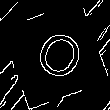O_SW: (25, 22, 85, 88)
